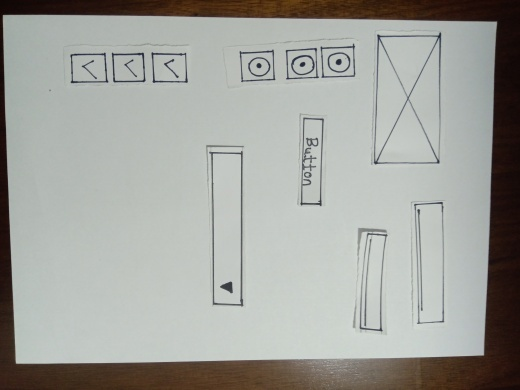button: (303, 117, 323, 208)
checkbox: (153, 53, 187, 84), (72, 50, 106, 81), (109, 52, 143, 83)
dropdown: (206, 148, 245, 307)
img: (377, 33, 438, 163)
radio: (321, 49, 355, 78), (283, 49, 317, 78), (240, 51, 274, 80)
text: (415, 203, 444, 322), (357, 235, 382, 327)
